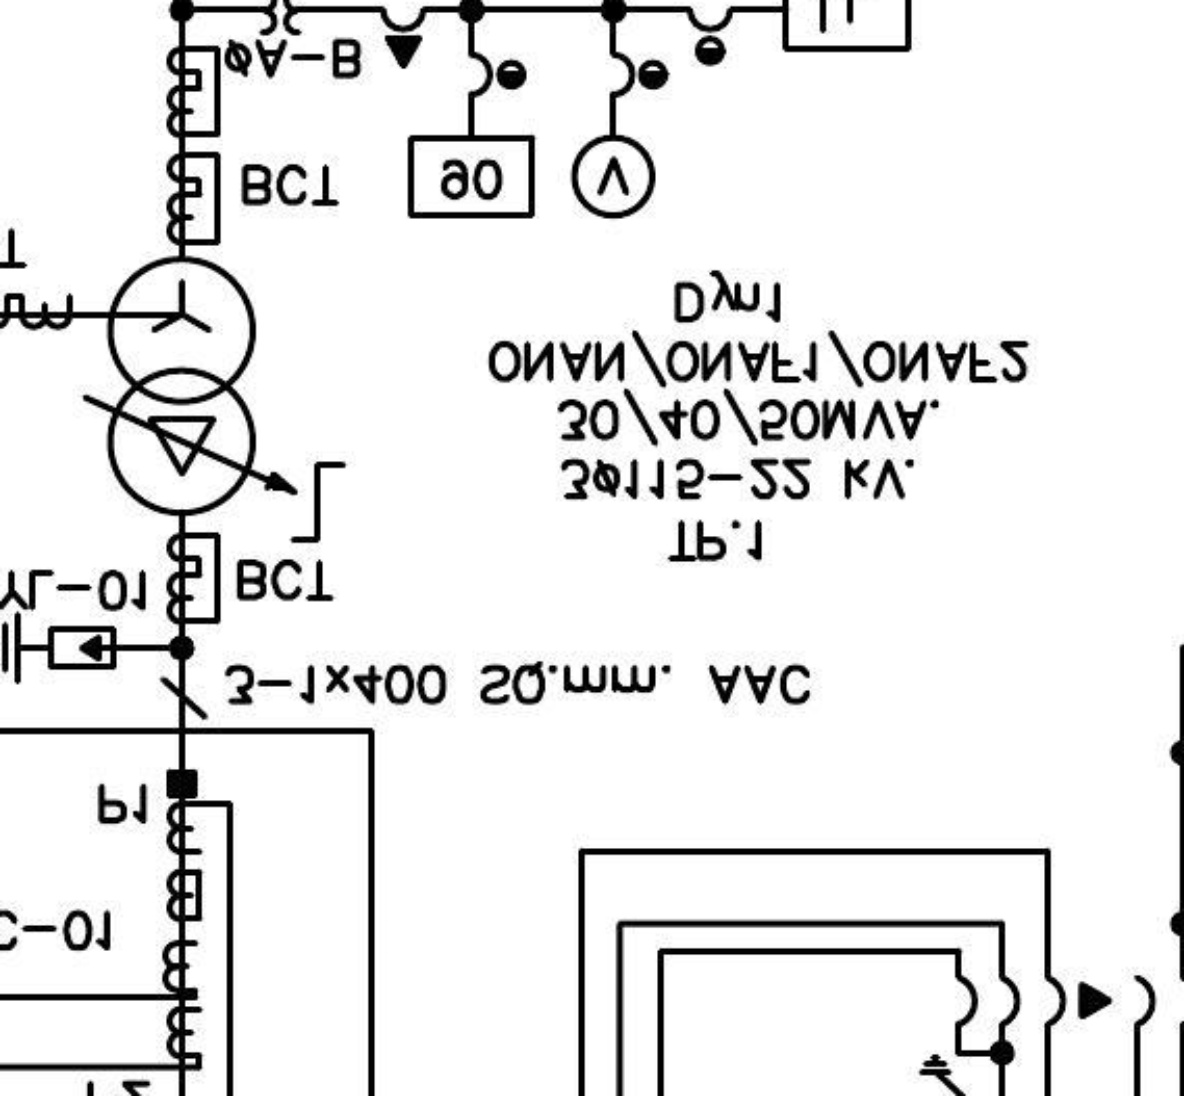11522_tx_dyn1: (106, 254, 258, 517)
v_m: (568, 133, 658, 221)
